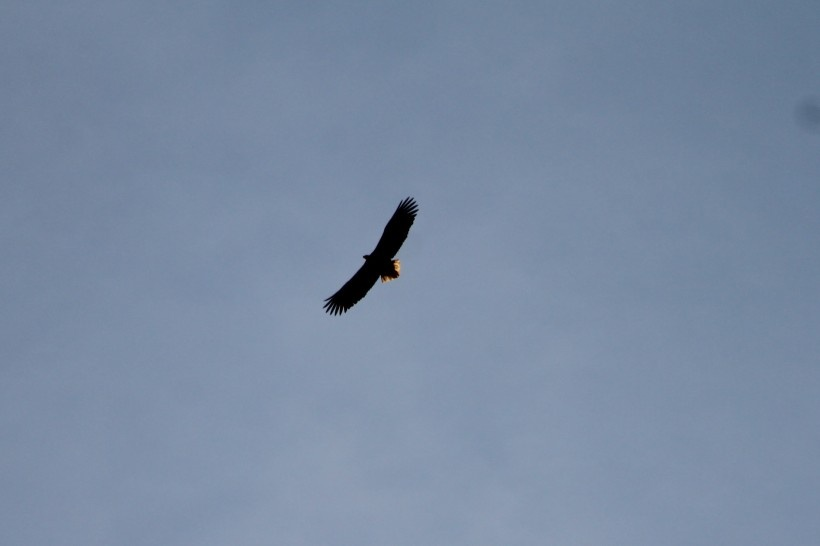bird: (322, 198, 422, 317)
